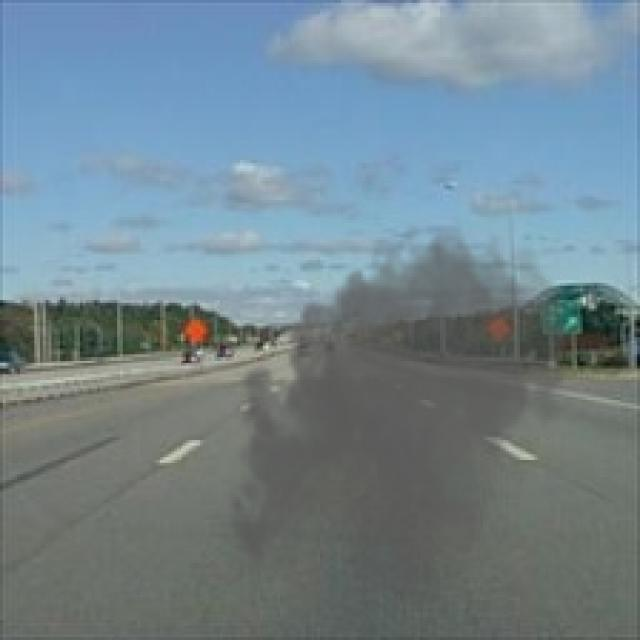Smoke: (217, 211, 577, 606)
